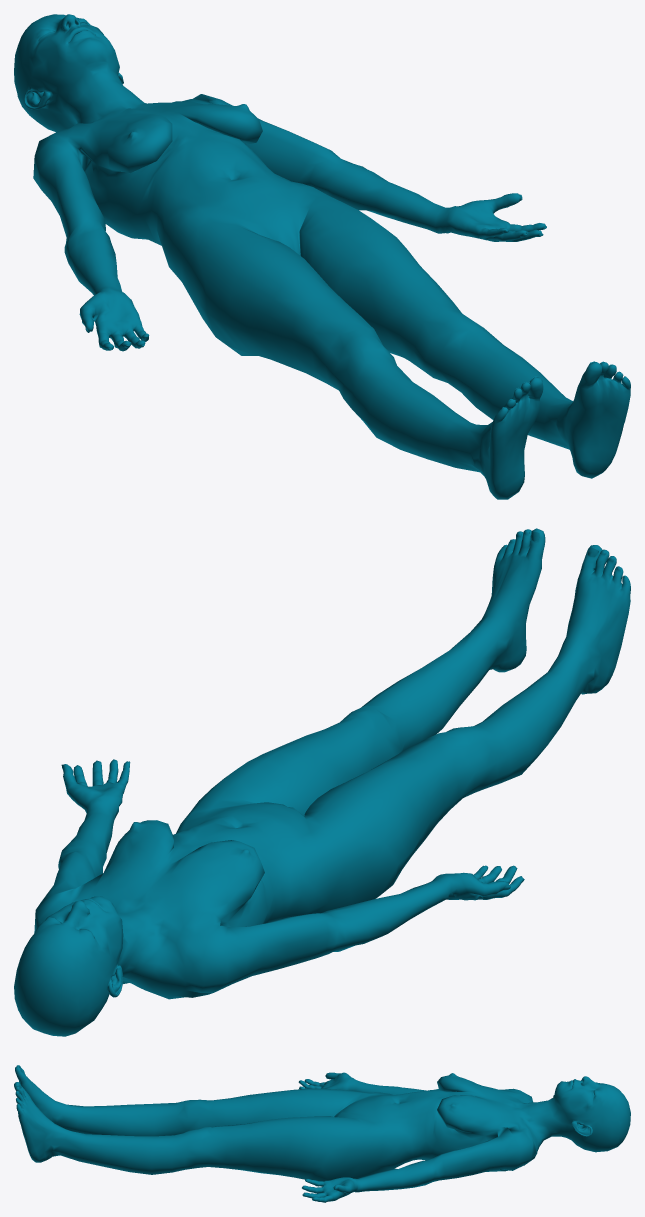
Rendered from Body.obj.
3 views of the same model, one above another, from view 1: azimuth 30°, elevation 25°; view 2: azimuth 150°, elevation 25°; view 3: azimuth 270°, elevation 25° (orthographic). The views are drawn at different scales.
Parts seen in each view (by area): view 1: Body; view 2: Body; view 3: Body.
Boxes of the visible parts, x1=… form: Body: x1=14, y1=14, x2=630, y2=499; Body: x1=14, y1=528, x2=630, y2=1036; Body: x1=14, y1=1065, x2=630, y2=1202.
Bounding box in the file's own units: 26.58 × 9.87 × 54.78.
